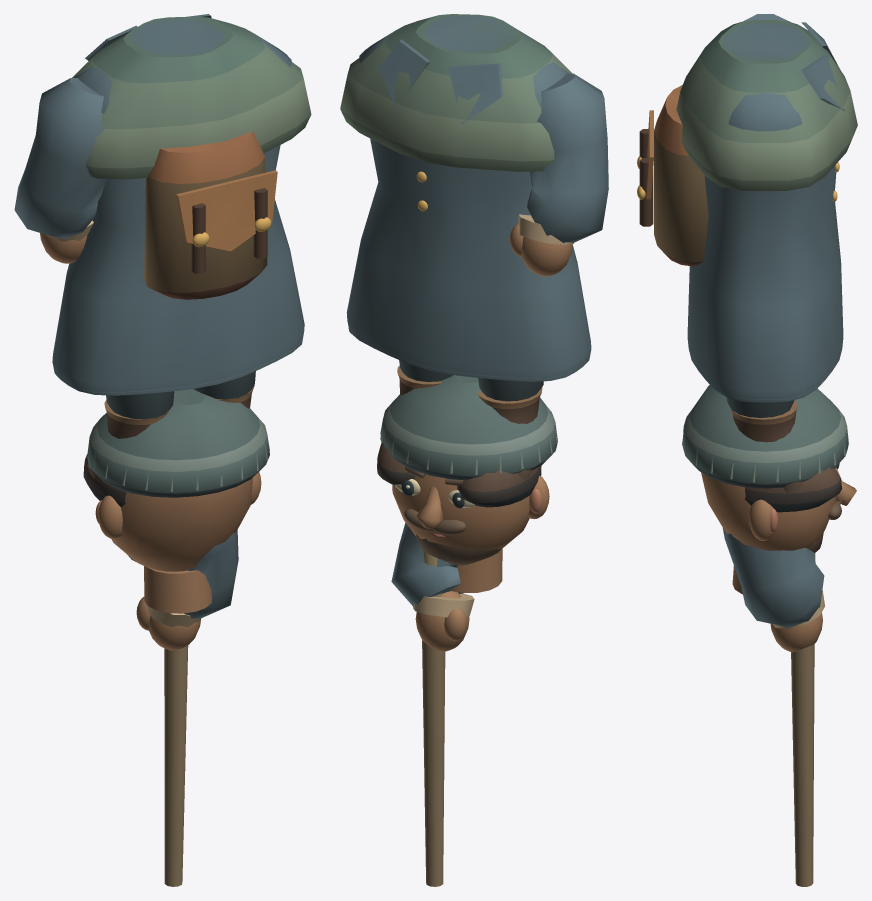
File: ranger.glb
3 views of the same model, side by side, from view 1: azimuth 30°, elevation 25°; view 2: azimuth 150°, elevation 25°; view 3: azimuth 270°, elevation 25° (orthographic). The views are drawn at different scales.
Visible parts, largest first — view 1: Chest, Head, GreetingArm; view 2: Chest, Head, GreetingArm; view 3: Chest, Head, GreetingArm.
Part boxes in pixels (x1,y1,x2,y2): Chest: (14,14,311,506); Head: (87,389,269,613); GreetingArm: (136,530,238,886); Chest: (340,14,608,507); Head: (380,375,557,592); GreetingArm: (391,522,474,886); Chest: (637,14,857,512); Head: (682,385,856,594); GreetingArm: (722,528,824,886).
Bounding box in the file's own units: 0.7704 × 2.43 × 0.583.
1 material, 1 textured.
